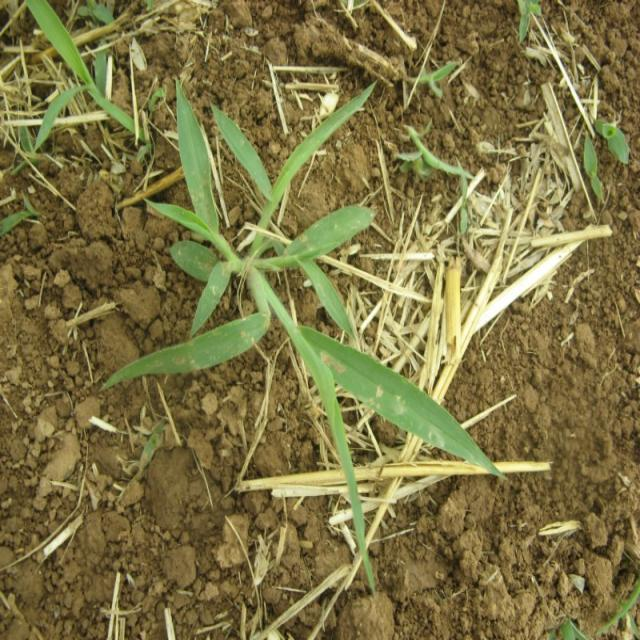bg: (113, 84, 509, 567)
